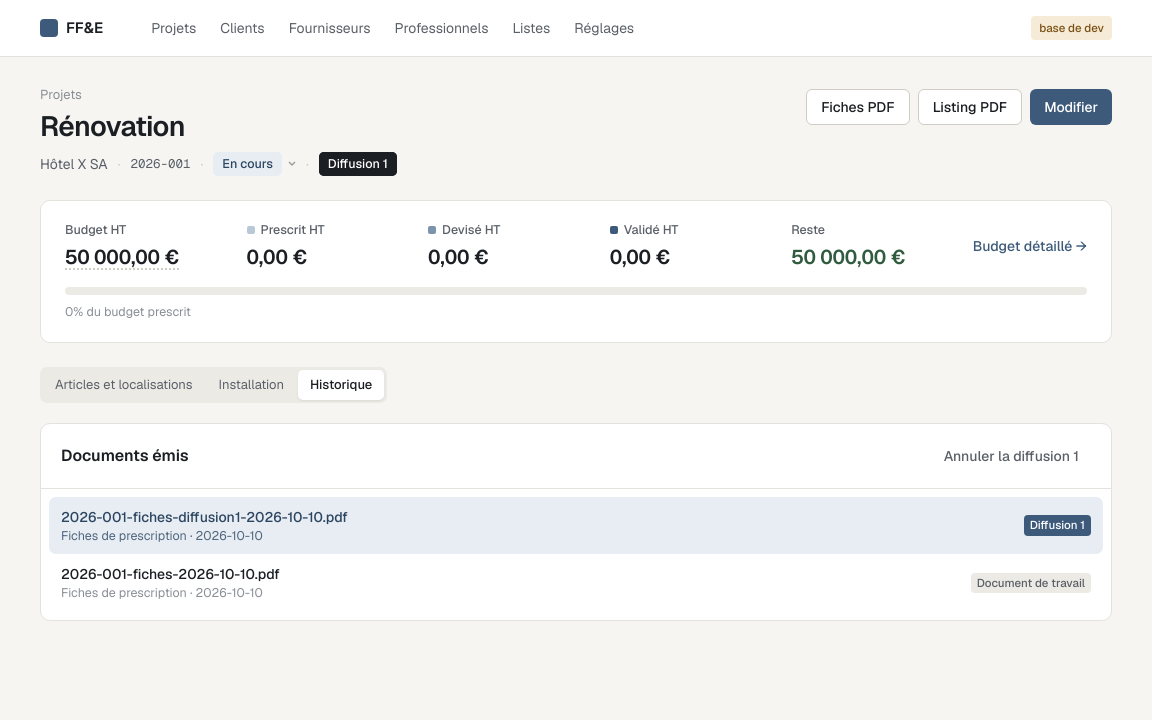
Scenario: page projet › Historique : documents de travail et diffusions ; la dernière diffusion s’annule
Expected: the 2nd text "Diffusion 1" is shown, [1024,515,1091,536]
Expected: the text "Document de travail" is shown, [971,573,1091,593]
Click the button "Annuler la diffusion 1".
click(1011, 456)  # box [932,440,1091,472]
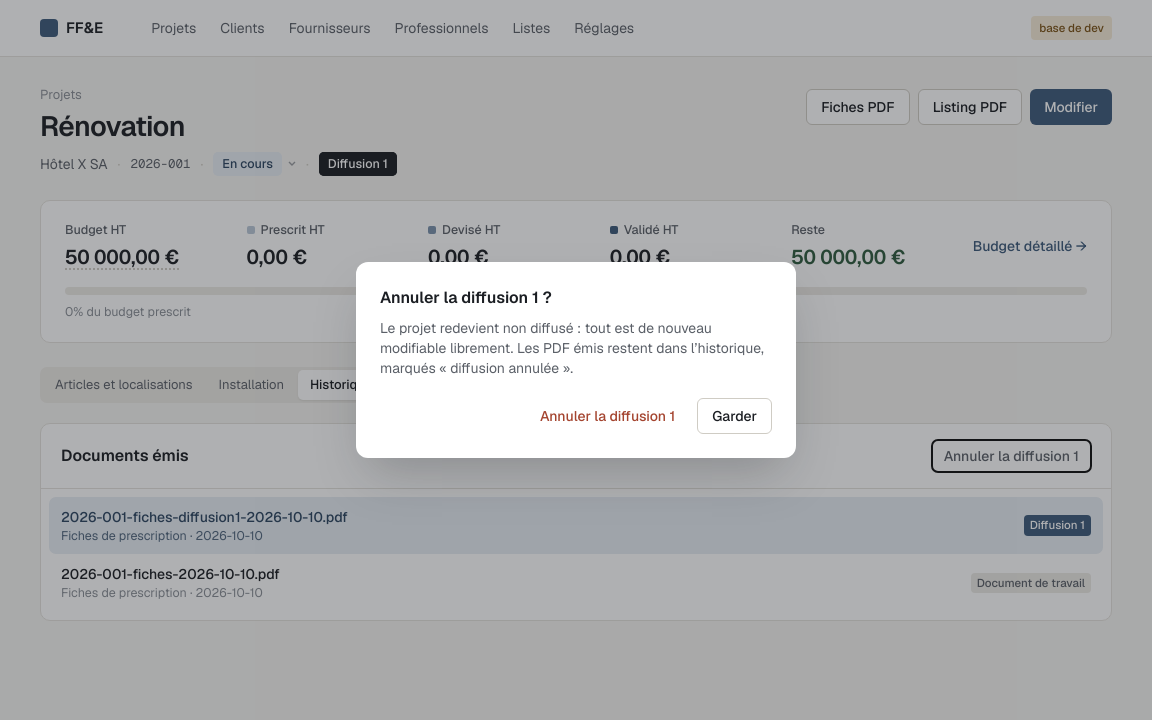
Click the button "Annuler la diffusion 1".
click(608, 416)  # box [526,398,689,434]
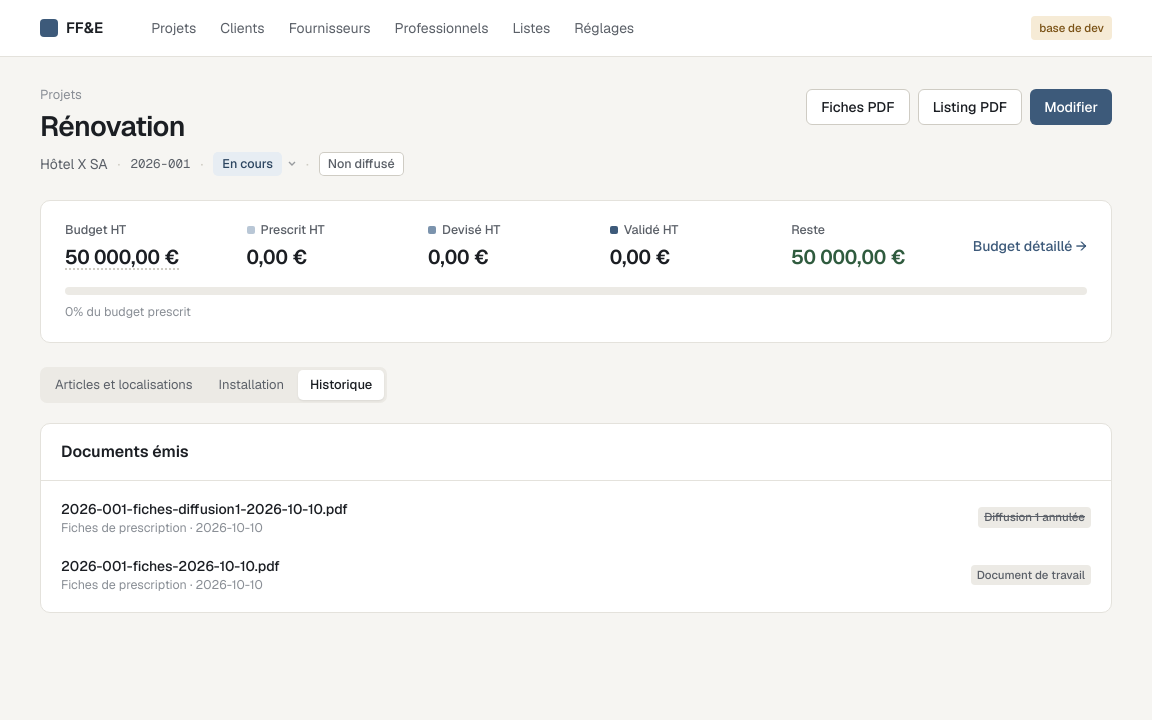
Expected: the text "Diffusion 1 annulée" is shown, [978,507,1091,528]
Expected: the text "Non diffusé" is shown, [319,152,404,176]
